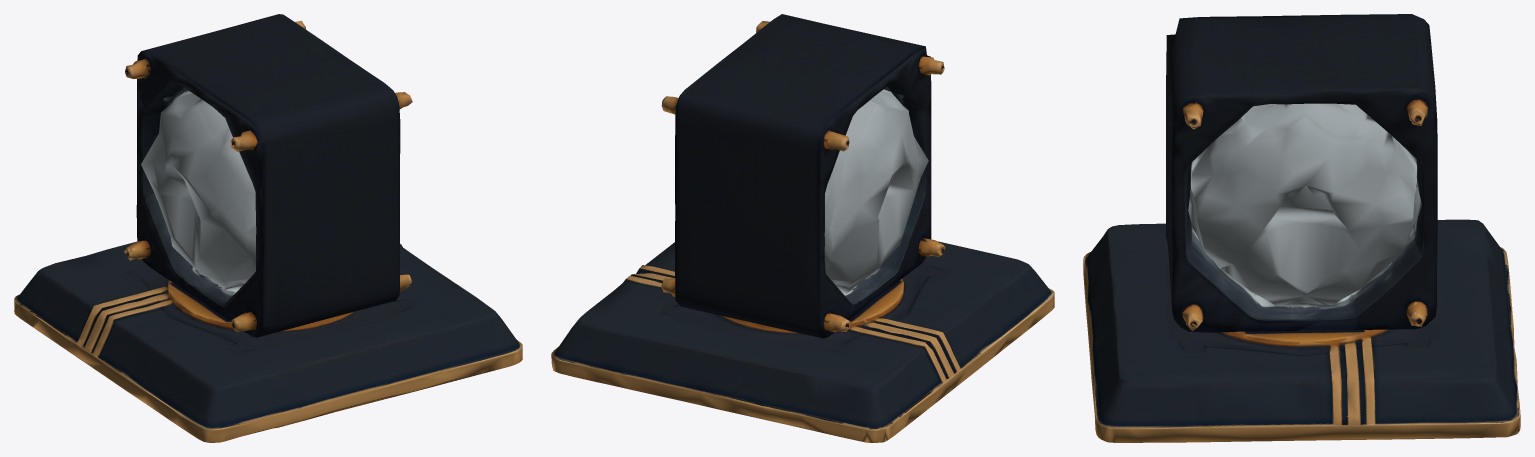
The model's file is tile.glb.
3 renders of one model, left to right at view 1: azimuth 30°, elevation 25°; view 2: azimuth 150°, elevation 25°; view 3: azimuth 270°, elevation 25°, orthographic. The views are drawn at different scales.
Parts seen in each view (by area): view 1: tripo_node_401492d0-6703-45a2-9293-e9b55757594f; view 2: tripo_node_401492d0-6703-45a2-9293-e9b55757594f; view 3: tripo_node_401492d0-6703-45a2-9293-e9b55757594f.
Part boxes in pixels (left/top/right/bottom): tripo_node_401492d0-6703-45a2-9293-e9b55757594f: left=14, top=14, right=522, bottom=442; tripo_node_401492d0-6703-45a2-9293-e9b55757594f: left=551, top=14, right=1054, bottom=442; tripo_node_401492d0-6703-45a2-9293-e9b55757594f: left=1083, top=14, right=1520, bottom=442.
Size of the model in its own units: 0.3308 by 0.25 by 0.3316.
Materials: 1 (1 with a texture image).
